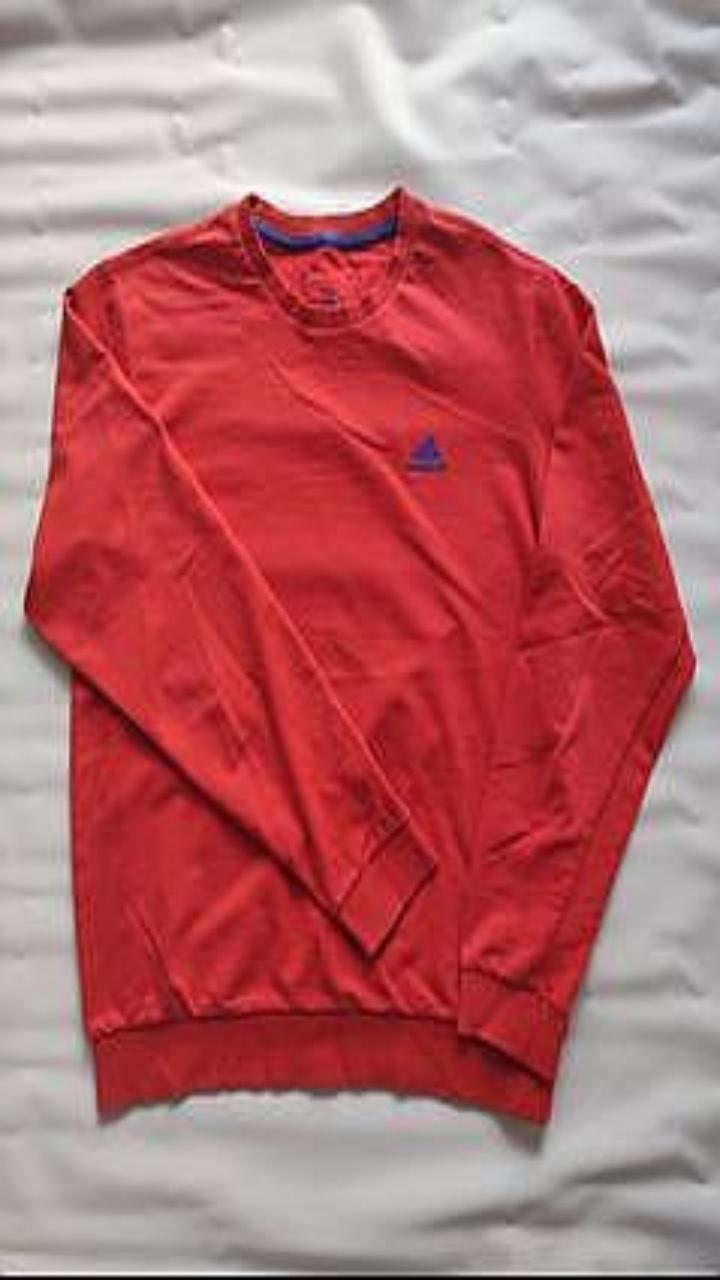T-Shirt: (24, 186, 695, 1123)
